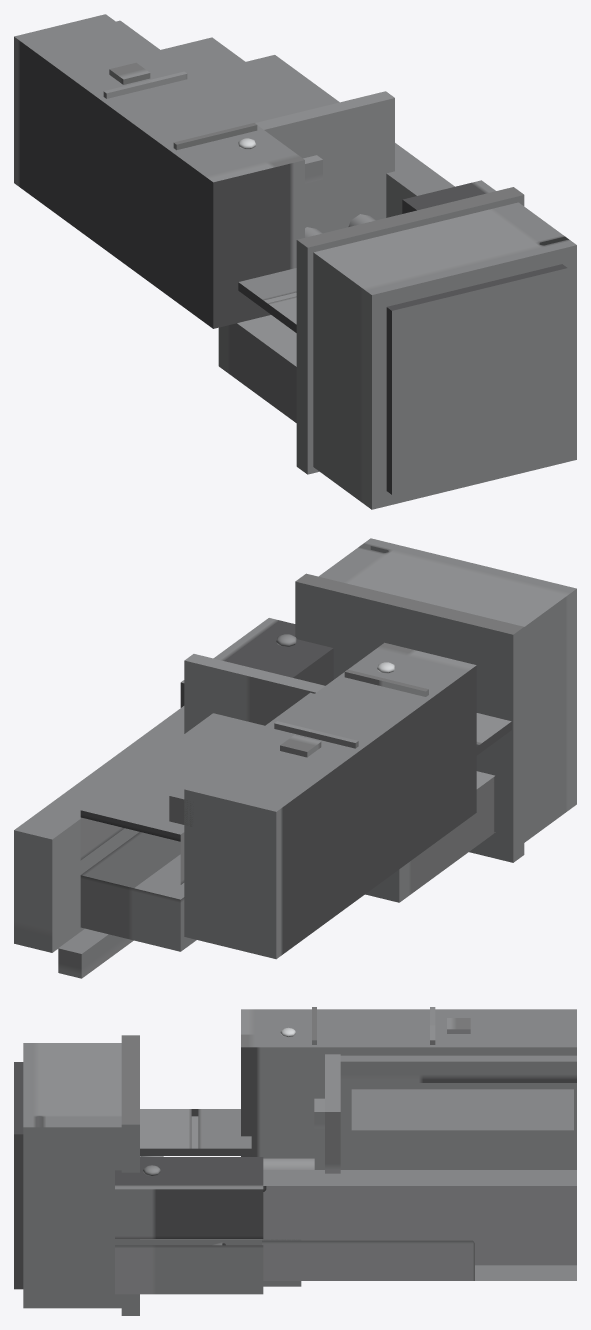
3 views of the same model, one above another, from view 1: azimuth 30°, elevation 25°; view 2: azimuth 150°, elevation 25°; view 3: azimuth 270°, elevation 25° (orthographic). The views are drawn at different scales.
Size of the model in its own units: 0.9605 by 0.826 by 1.97.
